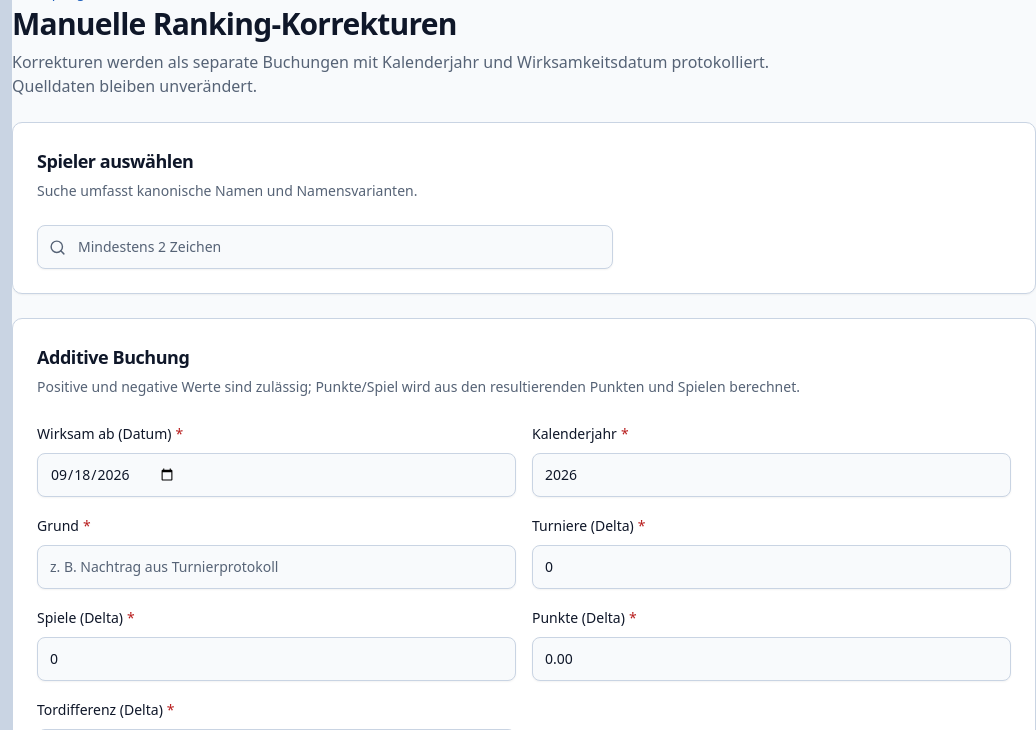
Scenario: ManualCorrectionsPage › requires a year matching the effective date before sending a preview
Type "Test" into the dropdown named "Spieler suchen".
click(325, 247); type("Test")  # box top-left (37, 225), bottom-right (613, 269)
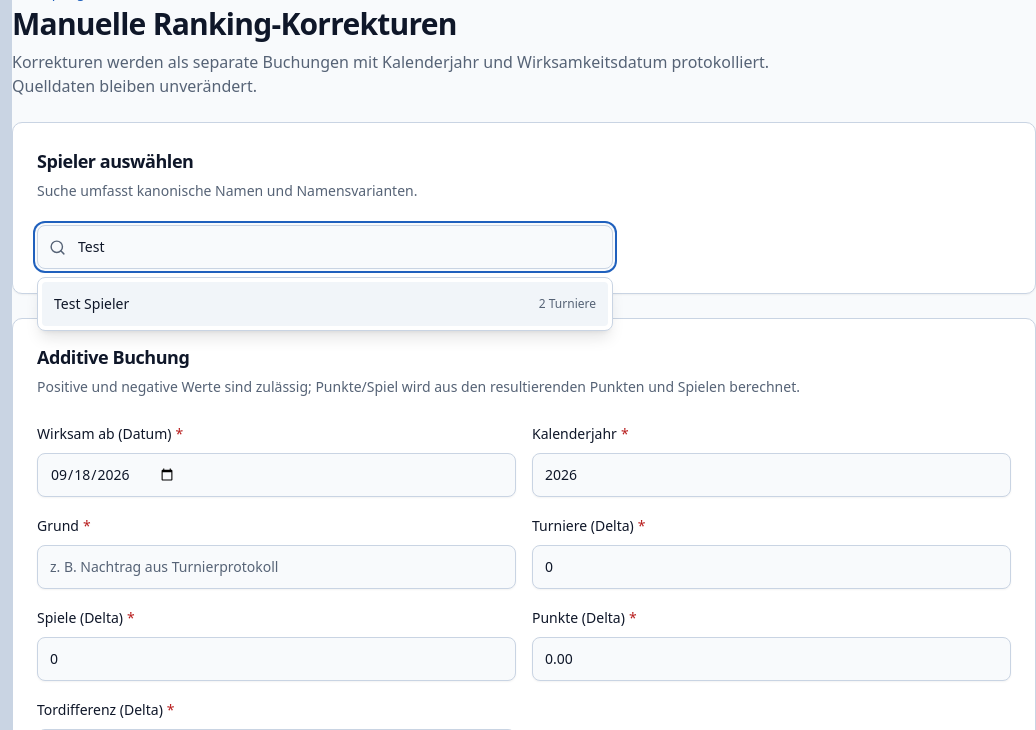
Click the option "Test Spieler 2 Turniere".
click(92, 304)  # box top-left (42, 282), bottom-right (608, 326)
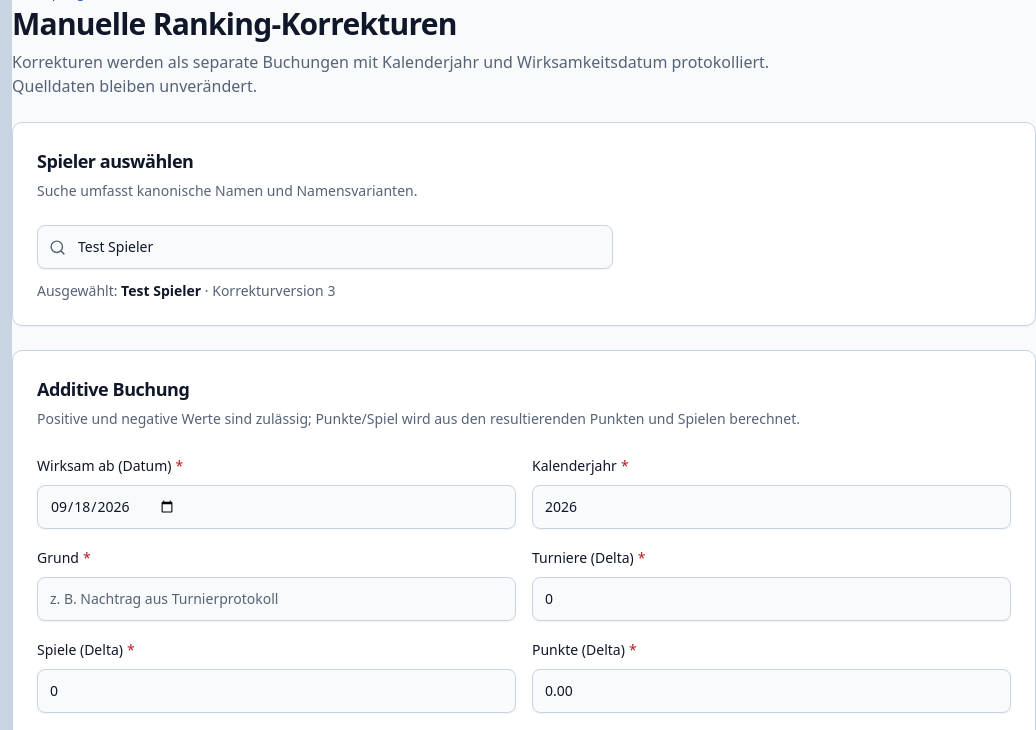
Result: the text "Ausgewählt: Test Spieler · Korrekturversion 3" is shown at top-left (37, 281), bottom-right (335, 300)
Replace the text in the number field labelled "Kalenderjahr*" with "2025" at (772, 507), box top-left (532, 485), bottom-right (1011, 529)
(page scrolled)
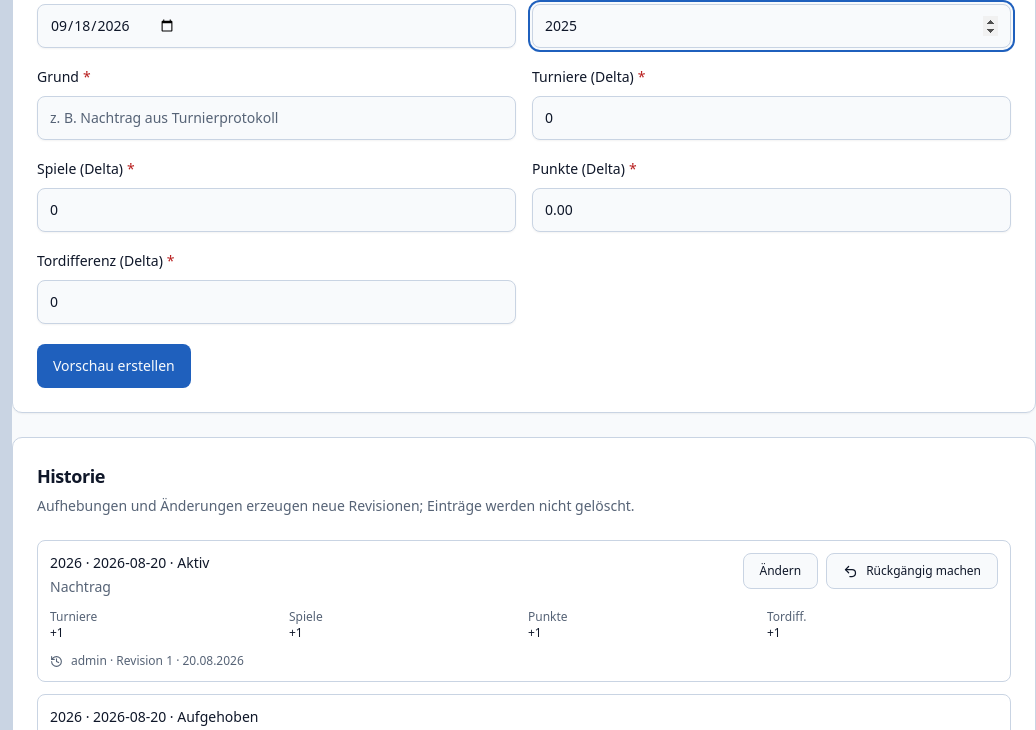
Click the button "Vorschau erstellen".
click(114, 366)  # box top-left (37, 344), bottom-right (191, 388)
(page scrolled)
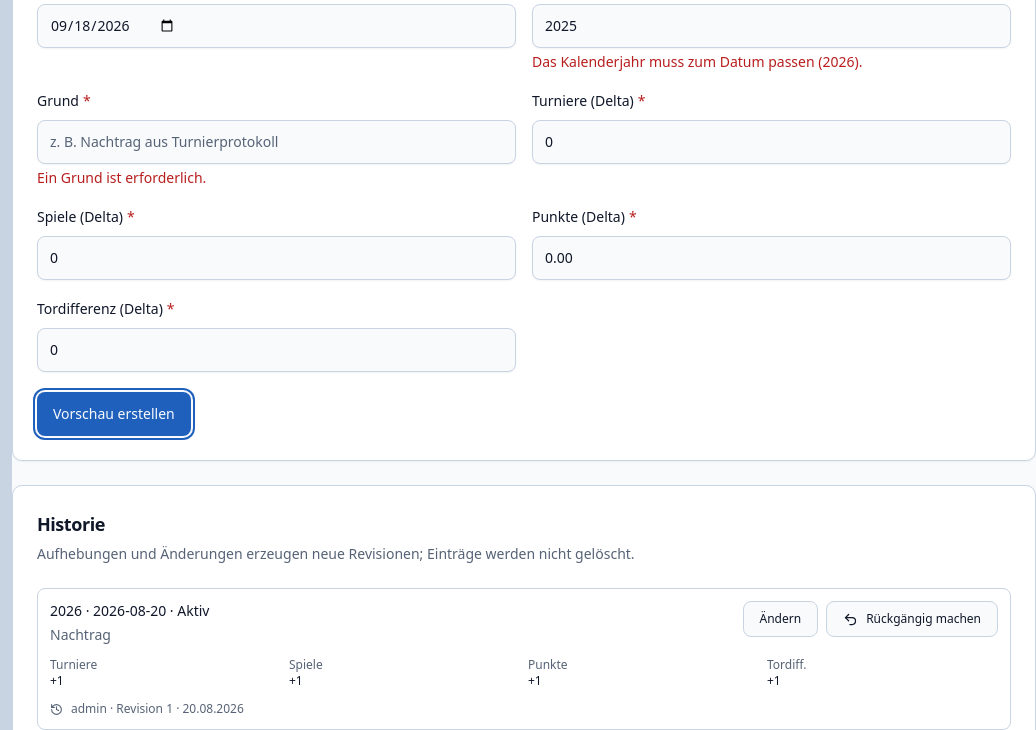
Result: the text "Das Kalenderjahr muss zum Datum passen (2026)." is shown at top-left (532, 52), bottom-right (862, 71)
